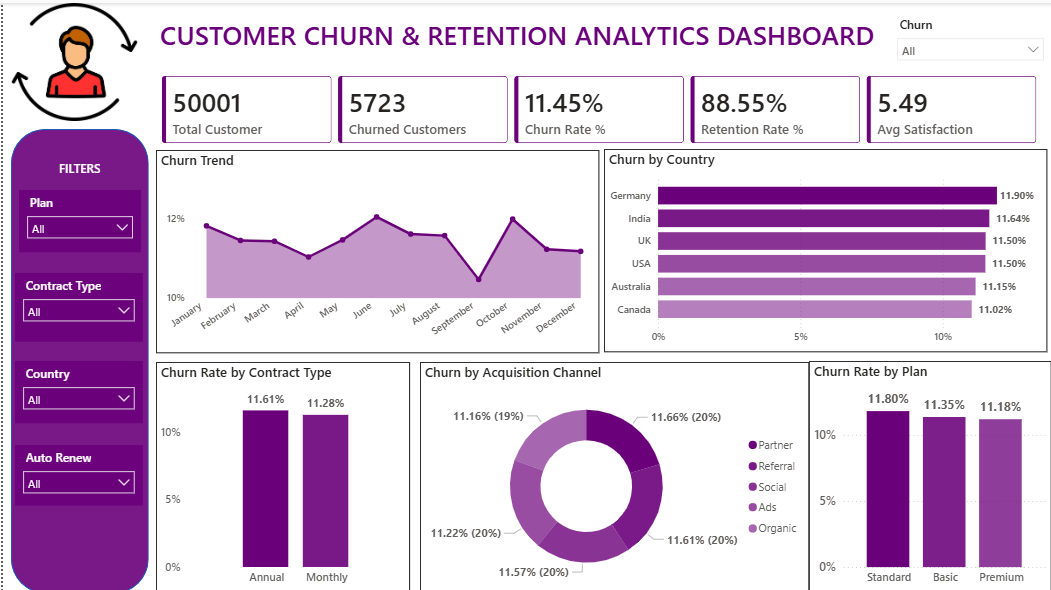

The dashboard page shown, as its layout file describes it:
{"tool":"powerbi","page":{"name":"Executive Churn Overview","canvas":[1280,720],"ordinal":0},"visuals":[{"type":"image","box":[9.3,0,154.7,144],"z":0},{"type":"shape","box":[9.3,153.3,168,566.7],"z":1000},{"type":"slicer","fields":{"Values":["customers_cleaned.Plan"]},"box":[19.3,228.5,148.6,75.7],"z":2000},{"type":"slicer","fields":{"Values":["subscriptions_cleaned.ContractType"]},"box":[15.1,328.9,155.5,84],"z":3000},{"type":"slicer","fields":{"Values":["customers_cleaned.Country"]},"box":[15.1,436.3,155.5,75.7],"z":4000},{"type":"slicer","fields":{"Values":["customers_cleaned.AutoRenew"]},"box":[15.1,539.5,155.5,74.3],"z":5000},{"type":"slicer","fields":{"Values":["customers_cleaned.Churn"]},"box":[1081.3,10.7,172,61.3],"z":6000},{"type":"textbox","box":[186.7,10.7,1093.3,61.3],"z":7000},{"type":"cardVisual","fields":{"Data":["customers_cleaned.Total Customer","customers_cleaned.Churned Customers","customers_cleaned.Churn Rate %","customers_cleaned.Retention Rate %","customers_cleaned.Avg Satisfaction"]},"box":[177.3,72,1102.7,116],"z":8000},{"type":"columnChart","title":"Churn Rate by Plan","fields":{"Category":["customers_cleaned.Plan"],"Y":["customers_cleaned.Churn Rate %"]},"box":[984.1,436.3,295.9,283.5],"z":9000},{"type":"barChart","title":"Churn by Country","fields":{"Category":["customers_cleaned.Country"],"Y":["customers_cleaned.Churn Rate %"]},"box":[733.3,178.7,541.3,248],"z":10000},{"type":"columnChart","title":"Churn Rate by Contract Type","fields":{"Category":["subscriptions_cleaned.ContractType"],"Y":["customers_cleaned.Churn Rate %"]},"box":[187.2,437.7,309.7,282.2],"z":11000},{"type":"donutChart","title":"Churn by Acquisition Channel","fields":{"Category":["customers_cleaned.AcquisitionChannel"],"Y":["customers_cleaned.Churn Rate %"]},"box":[509.2,437.7,474.8,282.2],"z":12000},{"type":"lineChart","title":"Churn Trend","fields":{"Category":["customers_cleaned.SignupDate.Variation.Date Hierarchy.Month"],"Y":["customers_cleaned.Churn Rate %"]},"box":[187.2,178.9,540.9,247.7],"z":13000},{"type":"slicer","fields":{"Values":["customers_cleaned.Churn"]},"box":[1081.3,10.7,198.7,70.7],"z":14000}]}

Visuals, with their boxes in screenshot pixels (x1, y1, x2, y2), scaled from the page's 1280x720 canvas onto the 1051x590 screenshot:
image: rect(8, 0, 135, 118)
shape: rect(8, 126, 146, 589)
slicer - customers_cleaned.Plan: rect(16, 187, 138, 249)
slicer - subscriptions_cleaned.ContractType: rect(12, 270, 140, 338)
slicer - customers_cleaned.Country: rect(12, 358, 140, 420)
slicer - customers_cleaned.AutoRenew: rect(12, 442, 140, 503)
slicer - customers_cleaned.Churn: rect(888, 9, 1029, 59)
textbox: rect(153, 9, 1050, 59)
cardVisual - customers_cleaned.Total Customer x customers_cleaned.Churned Customers: rect(146, 59, 1050, 154)
"Churn Rate by Plan" columnChart: rect(808, 358, 1050, 589)
"Churn by Country" barChart: rect(602, 146, 1047, 350)
"Churn Rate by Contract Type" columnChart: rect(154, 359, 408, 589)
"Churn by Acquisition Channel" donutChart: rect(418, 359, 808, 589)
"Churn Trend" lineChart: rect(154, 147, 598, 350)
slicer - customers_cleaned.Churn: rect(888, 9, 1050, 67)
